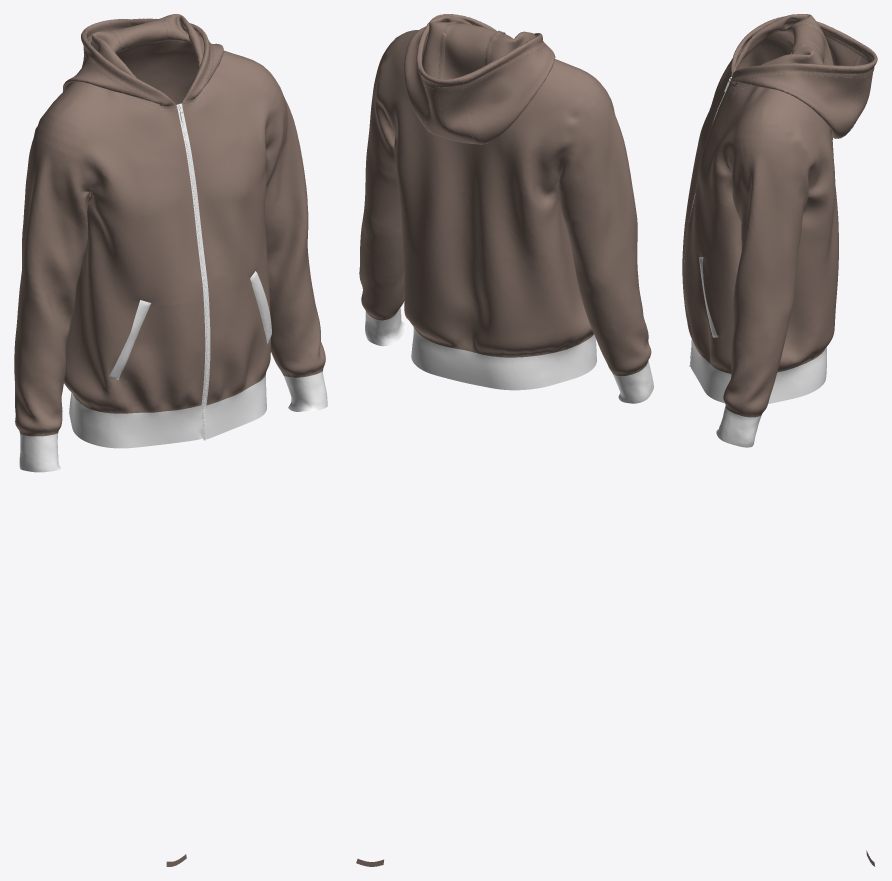
Rendered from hoodie_regular_zipup2.glb.
The picture shows the model from 3 angles, left to right: view 1: azimuth 30°, elevation 25°; view 2: azimuth 150°, elevation 25°; view 3: azimuth 270°, elevation 25°; orthographic projection. The views are drawn at different scales.
Visible parts, largest first — view 1: Pattern_8630, Pattern_8631, Pattern_14259, Pattern_14260, Pattern_10975, Pattern_15528, Pattern_106132, Pattern_15529, Pattern_106131, Pattern_15506, Pattern_15505, Pattern_106150 (+6 smaller); view 2: Pattern_10975, Pattern_14259, Pattern_14260, Pattern_106132, Pattern_15527, Pattern_106150, Pattern_106131, Pattern_15506, Pattern_15505, Pattern_8630; view 3: Pattern_14260, Pattern_8631, Pattern_10975, Pattern_106131, Pattern_106132, Pattern_15527, Pattern_8630, Pattern_106150, Pattern_15505, Pattern_15529, Pattern_14259, Pattern_1207604.
Boxes of the visible parts, x1,y1,x2,y2 form: Pattern_8630: [52, 82, 205, 413]; Pattern_8631: [182, 51, 277, 405]; Pattern_14259: [14, 113, 91, 436]; Pattern_14260: [265, 69, 325, 377]; Pattern_10975: [37, 40, 227, 400]; Pattern_15528: [77, 402, 201, 448]; Pattern_106132: [63, 30, 175, 106]; Pattern_15529: [206, 374, 266, 439]; Pattern_106131: [129, 14, 223, 100]; Pattern_15506: [19, 433, 60, 472]; Pattern_15505: [283, 371, 327, 411]; Pattern_106150: [84, 19, 168, 50]; Pattern_10975: [377, 34, 590, 357]; Pattern_14259: [558, 82, 651, 375]; Pattern_14260: [359, 41, 404, 320]; Pattern_106132: [464, 31, 555, 144]; Pattern_15527: [411, 326, 587, 390]; Pattern_106150: [419, 23, 496, 144]; Pattern_106131: [404, 14, 496, 132]; Pattern_15506: [612, 360, 653, 403]; Pattern_15505: [365, 307, 406, 346]; Pattern_8630: [554, 59, 600, 340]; Pattern_14260: [723, 125, 812, 417]; Pattern_8631: [683, 78, 780, 373]; Pattern_10975: [775, 31, 838, 372]; Pattern_106131: [732, 45, 867, 138]; Pattern_106132: [731, 14, 862, 74]; Pattern_15527: [768, 347, 826, 403]; Pattern_8630: [682, 46, 756, 319]; Pattern_106150: [792, 23, 877, 130]; Pattern_15505: [716, 406, 761, 447]; Pattern_15529: [691, 339, 731, 403]; Pattern_14259: [735, 33, 793, 125]; Pattern_1207604: [731, 19, 862, 75].
Size of the model in its own units: 0.5977 by 1.67 by 0.3694.
